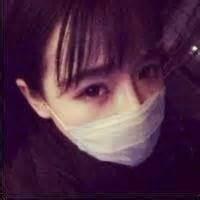WRONG: (47, 36, 175, 168)
